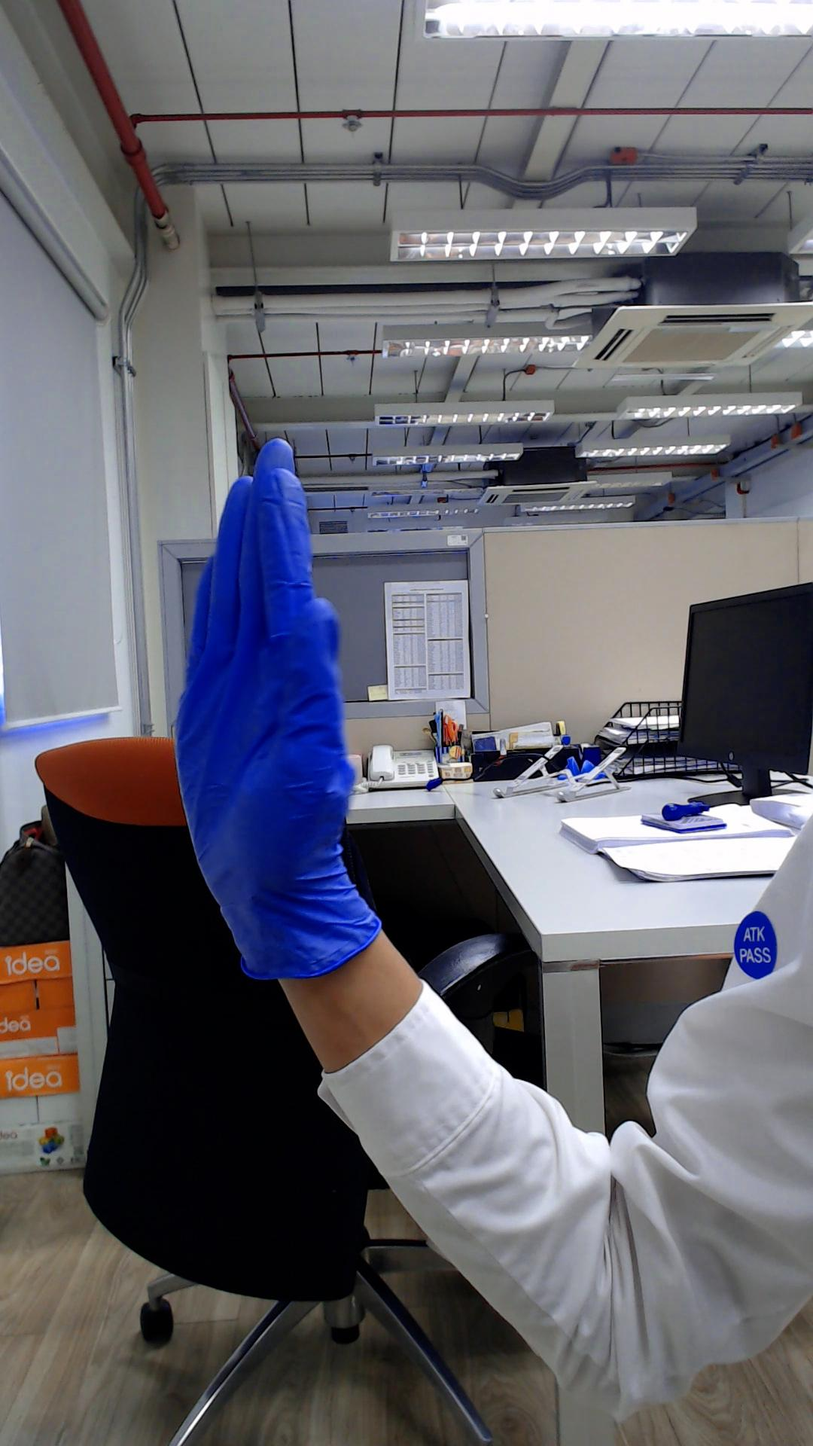gloves: (141, 410, 414, 866)
